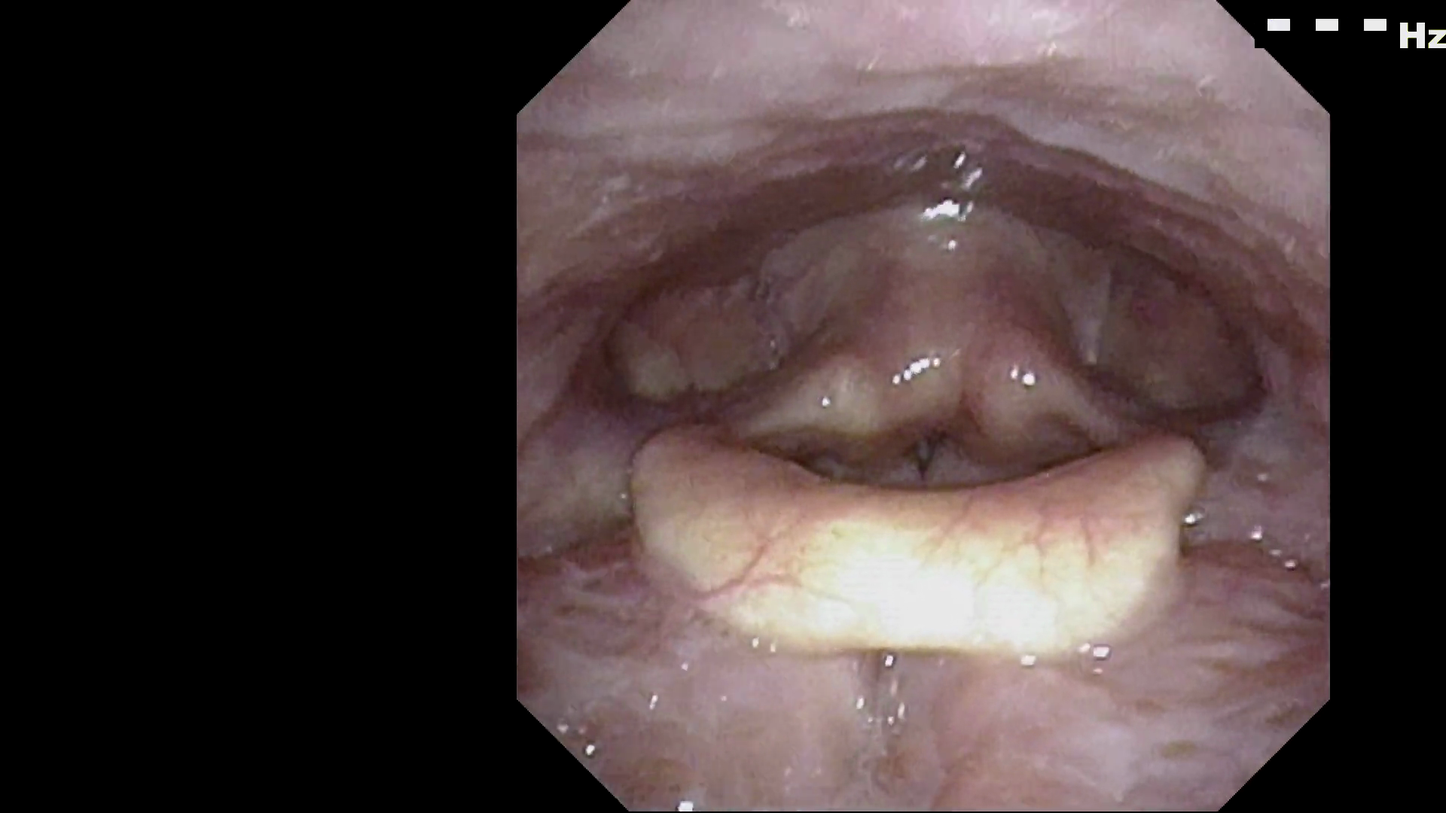epiglottis: (640, 413, 1215, 674)
trachea: (876, 395, 977, 514)
